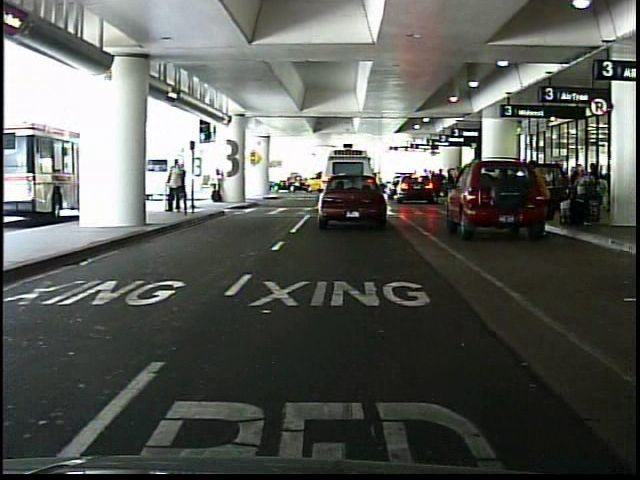person: (529, 158, 558, 231), (165, 157, 183, 214), (210, 166, 230, 204), (177, 163, 192, 211)
